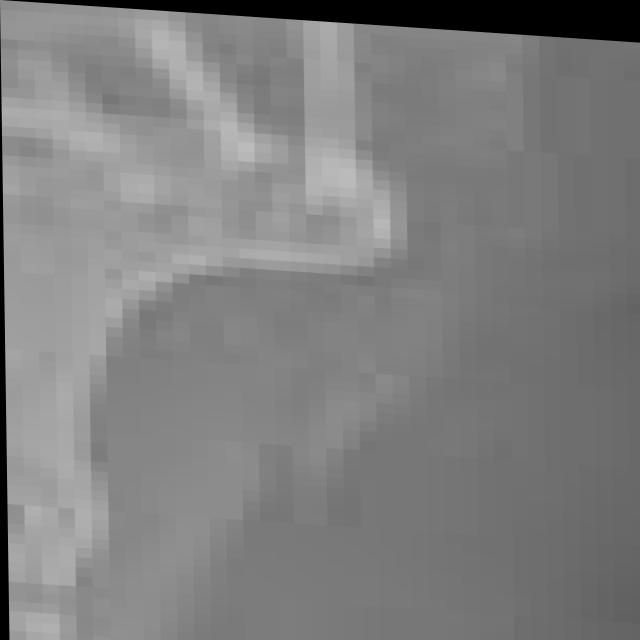fracture: (0, 28, 640, 640)
